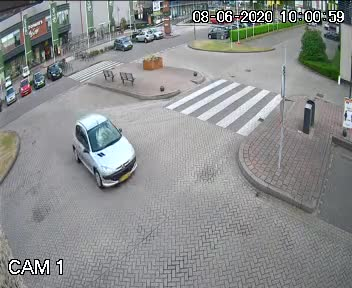car: (57, 105, 149, 197)
